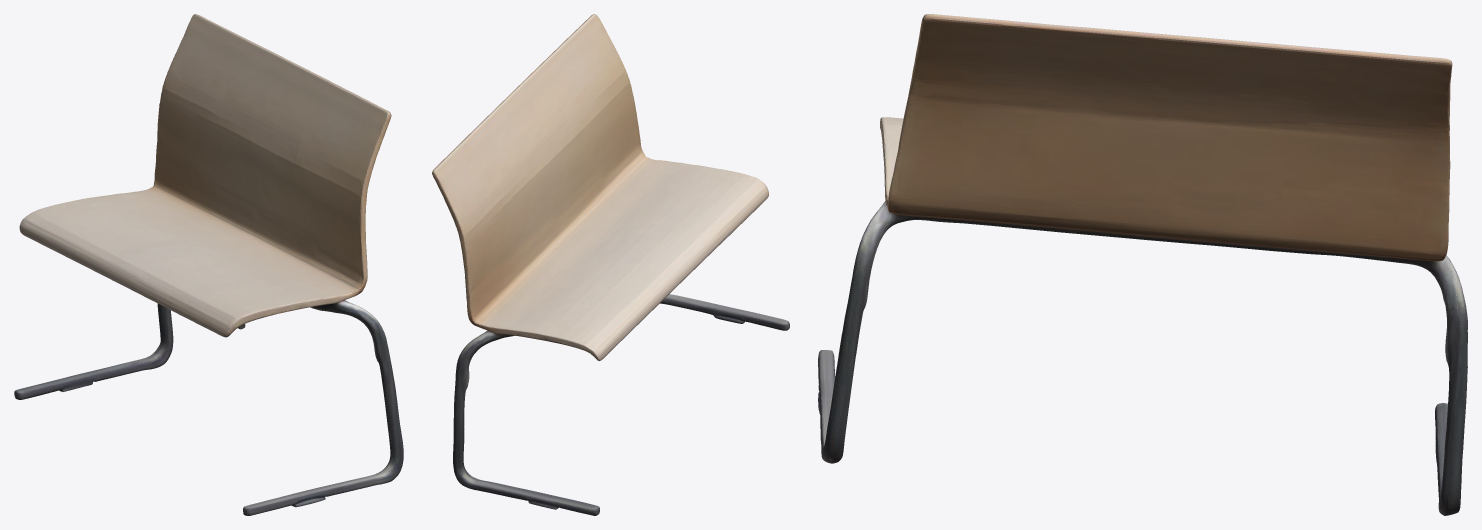
Rendered from wooden_chair_on_the_left_000.glb.
3 renders of one model, left to right at view 1: azimuth 30°, elevation 25°; view 2: azimuth 150°, elevation 25°; view 3: azimuth 270°, elevation 25°, orthographic. The views are drawn at different scales.
Parts seen in each view (by area): view 1: wooden_chair_on_the_left_000.obj; view 2: wooden_chair_on_the_left_000.obj; view 3: wooden_chair_on_the_left_000.obj.
Boxes of the visible parts, x1,y1,x2,y2 form: wooden_chair_on_the_left_000.obj: (14, 14, 403, 515); wooden_chair_on_the_left_000.obj: (432, 14, 789, 515); wooden_chair_on_the_left_000.obj: (818, 14, 1467, 515).
Size of the model in its own units: 0.2611 by 0.4935 by 0.5464.
Materials: 1 (1 with a texture image).
